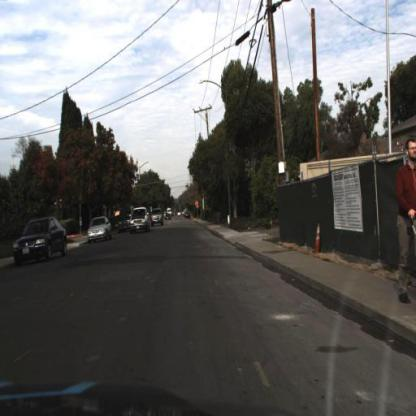car: (11, 209, 72, 273), (14, 214, 69, 259), (84, 208, 115, 250), (127, 206, 155, 241), (131, 207, 153, 236), (89, 217, 113, 243), (115, 209, 135, 235), (150, 206, 167, 229), (184, 210, 193, 224), (165, 213, 173, 223)
pedestrian: (395, 136, 416, 308)
